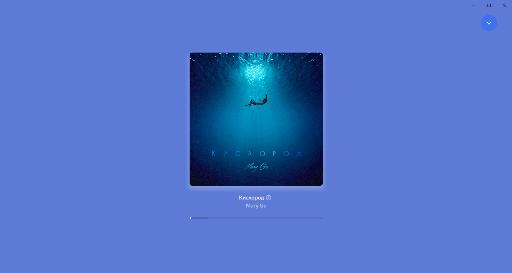yandexmusic: (0, 3, 512, 273)
